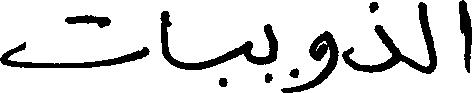X: (0, 10, 149, 72), (344, 0, 400, 77), (309, 26, 337, 92), (419, 0, 436, 78), (263, 19, 277, 87), (459, 0, 471, 77), (161, 6, 170, 68), (243, 36, 253, 68)
